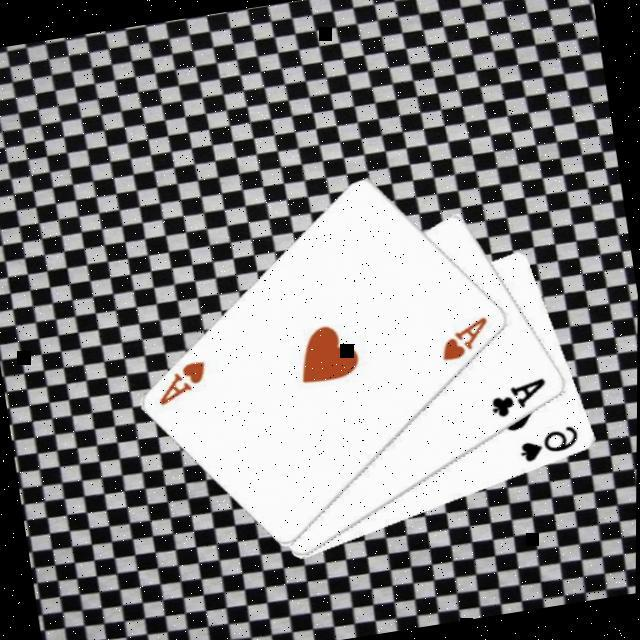6S: (514, 420, 584, 465)
AC: (486, 372, 552, 420)
AH: (150, 354, 214, 408), (434, 312, 496, 364)
